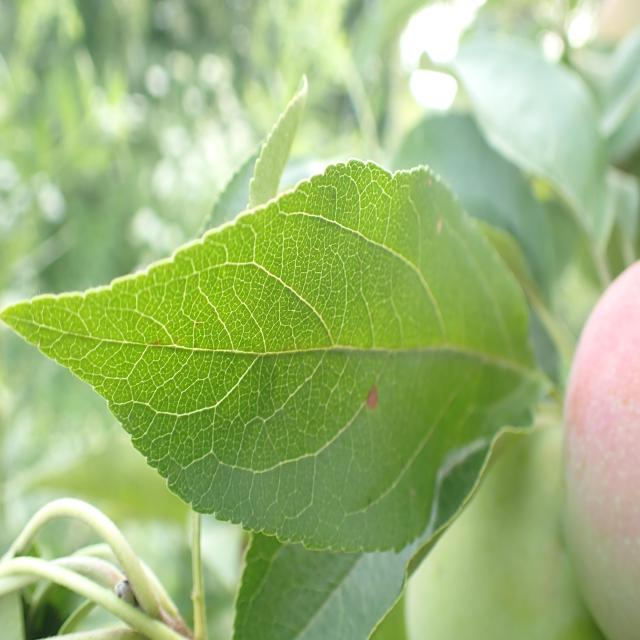frog-eye-leaf-spot: (1, 167, 556, 554)
